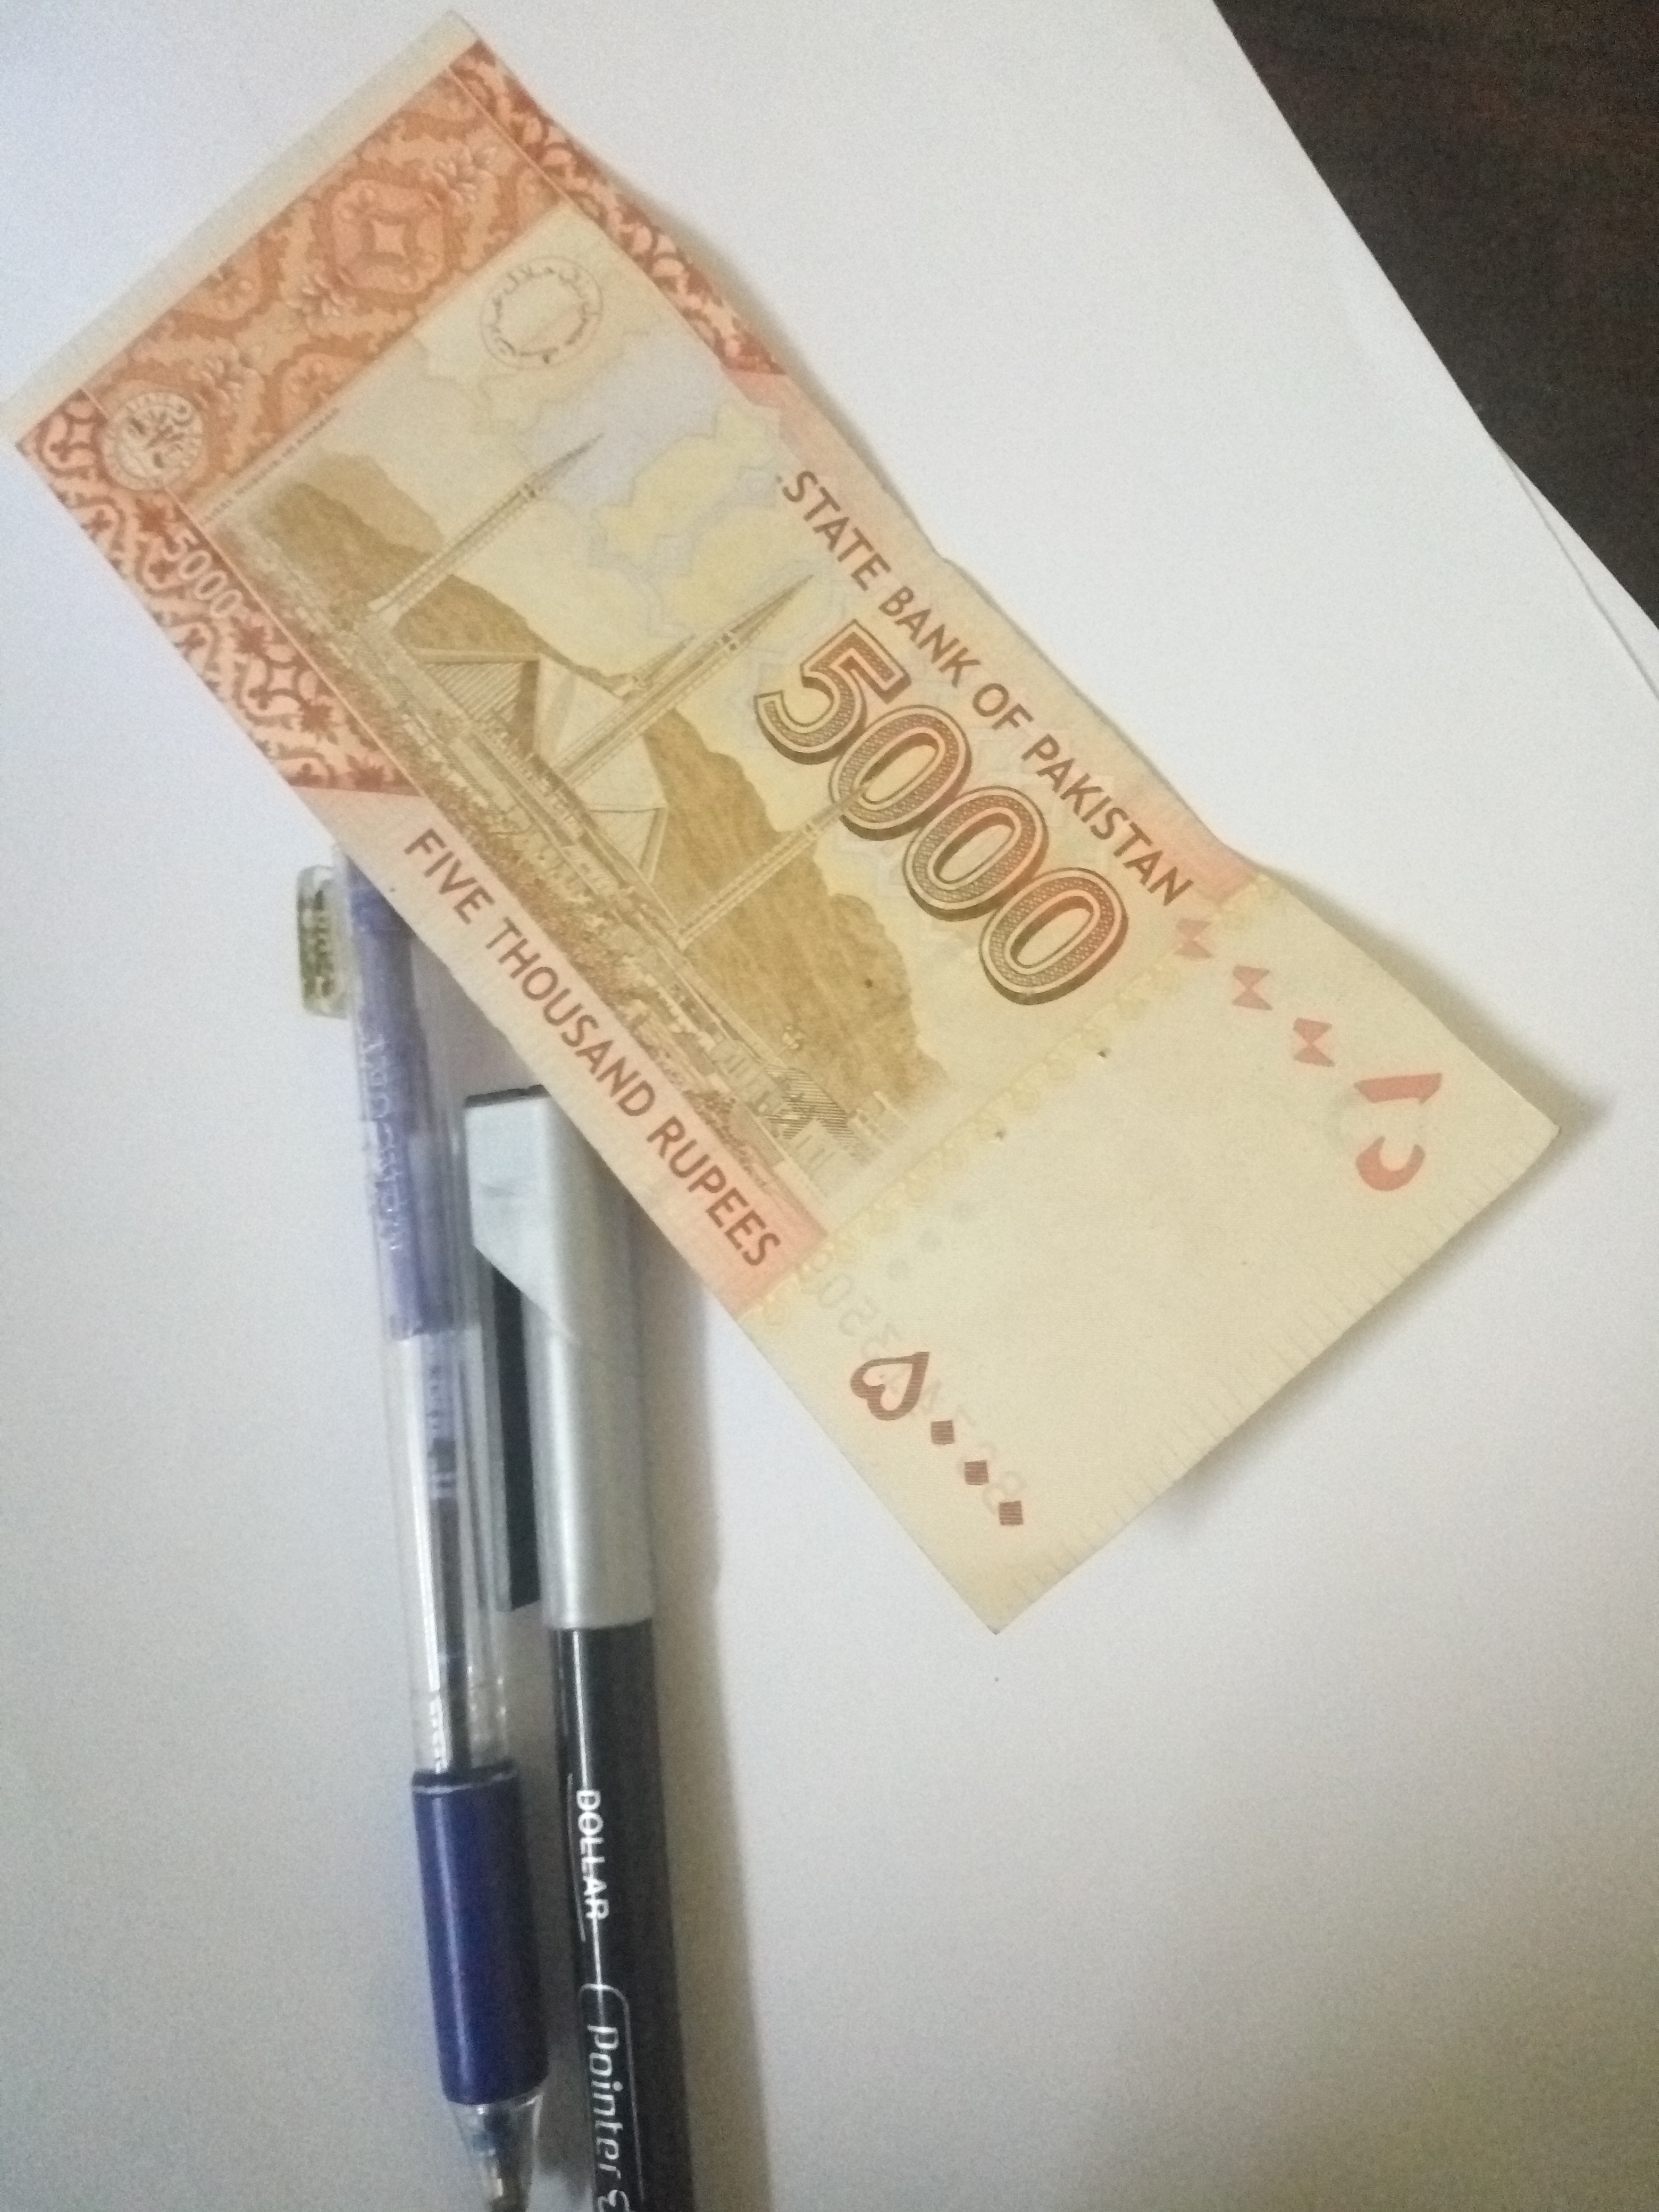5000 rupee: (38, 85, 1649, 1595)
